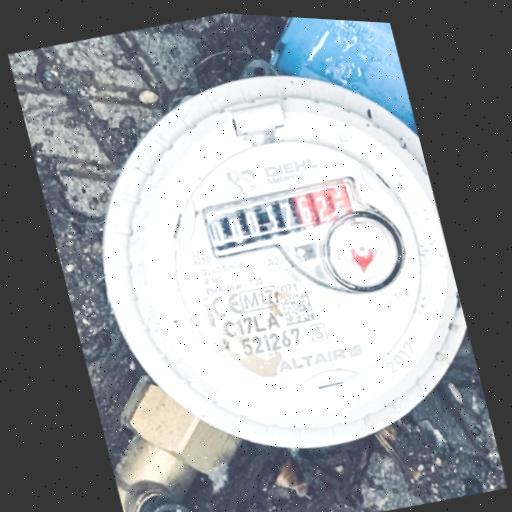0: (219, 206, 250, 250), (238, 202, 268, 245), (204, 211, 231, 252)
2: (308, 188, 334, 227)
5: (257, 198, 285, 240)
6: (290, 190, 320, 233), (325, 183, 355, 223)
7: (274, 195, 301, 237)
border_water_meter_number: (199, 165, 369, 270)
